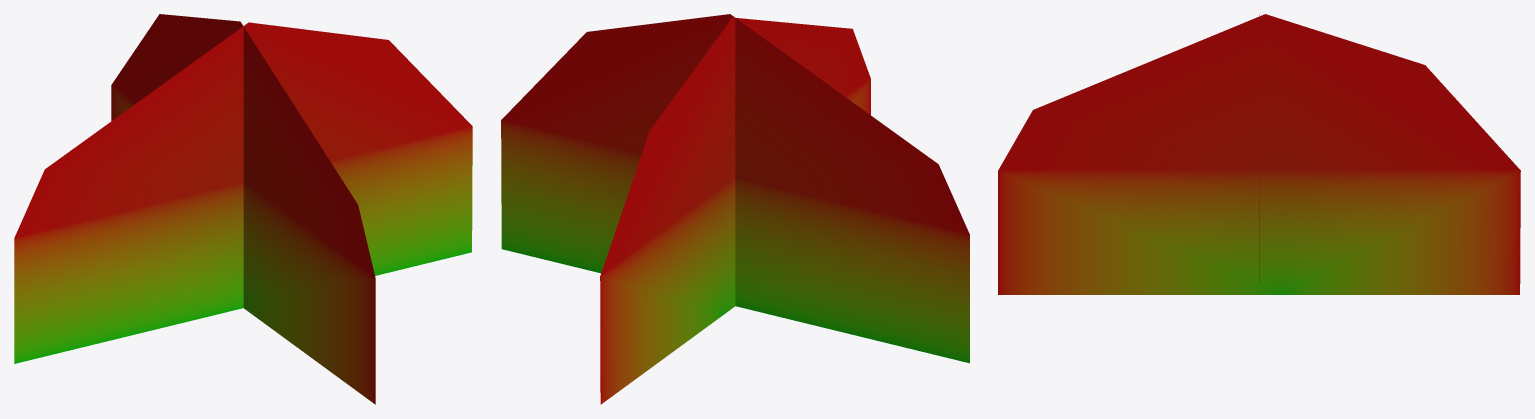
Rendered from Kikuyu Grass_LOD6_Var1_wiljearqx.fbx.
3 views of the same model, side by side, from view 1: azimuth 30°, elevation 25°; view 2: azimuth 150°, elevation 25°; view 3: azimuth 270°, elevation 25° (orthographic). The views are drawn at different scales.
Visible parts, largest first — view 1: _bcv7_Var1_LOD6; view 2: _bcv7_Var1_LOD6; view 3: _bcv7_Var1_LOD6.
Part boxes in pixels (x1,y1,x2,y2): _bcv7_Var1_LOD6: [14, 14, 472, 404]; _bcv7_Var1_LOD6: [501, 14, 969, 404]; _bcv7_Var1_LOD6: [998, 14, 1520, 294].
Size of the model in its own units: 104 by 61.84 by 104.
